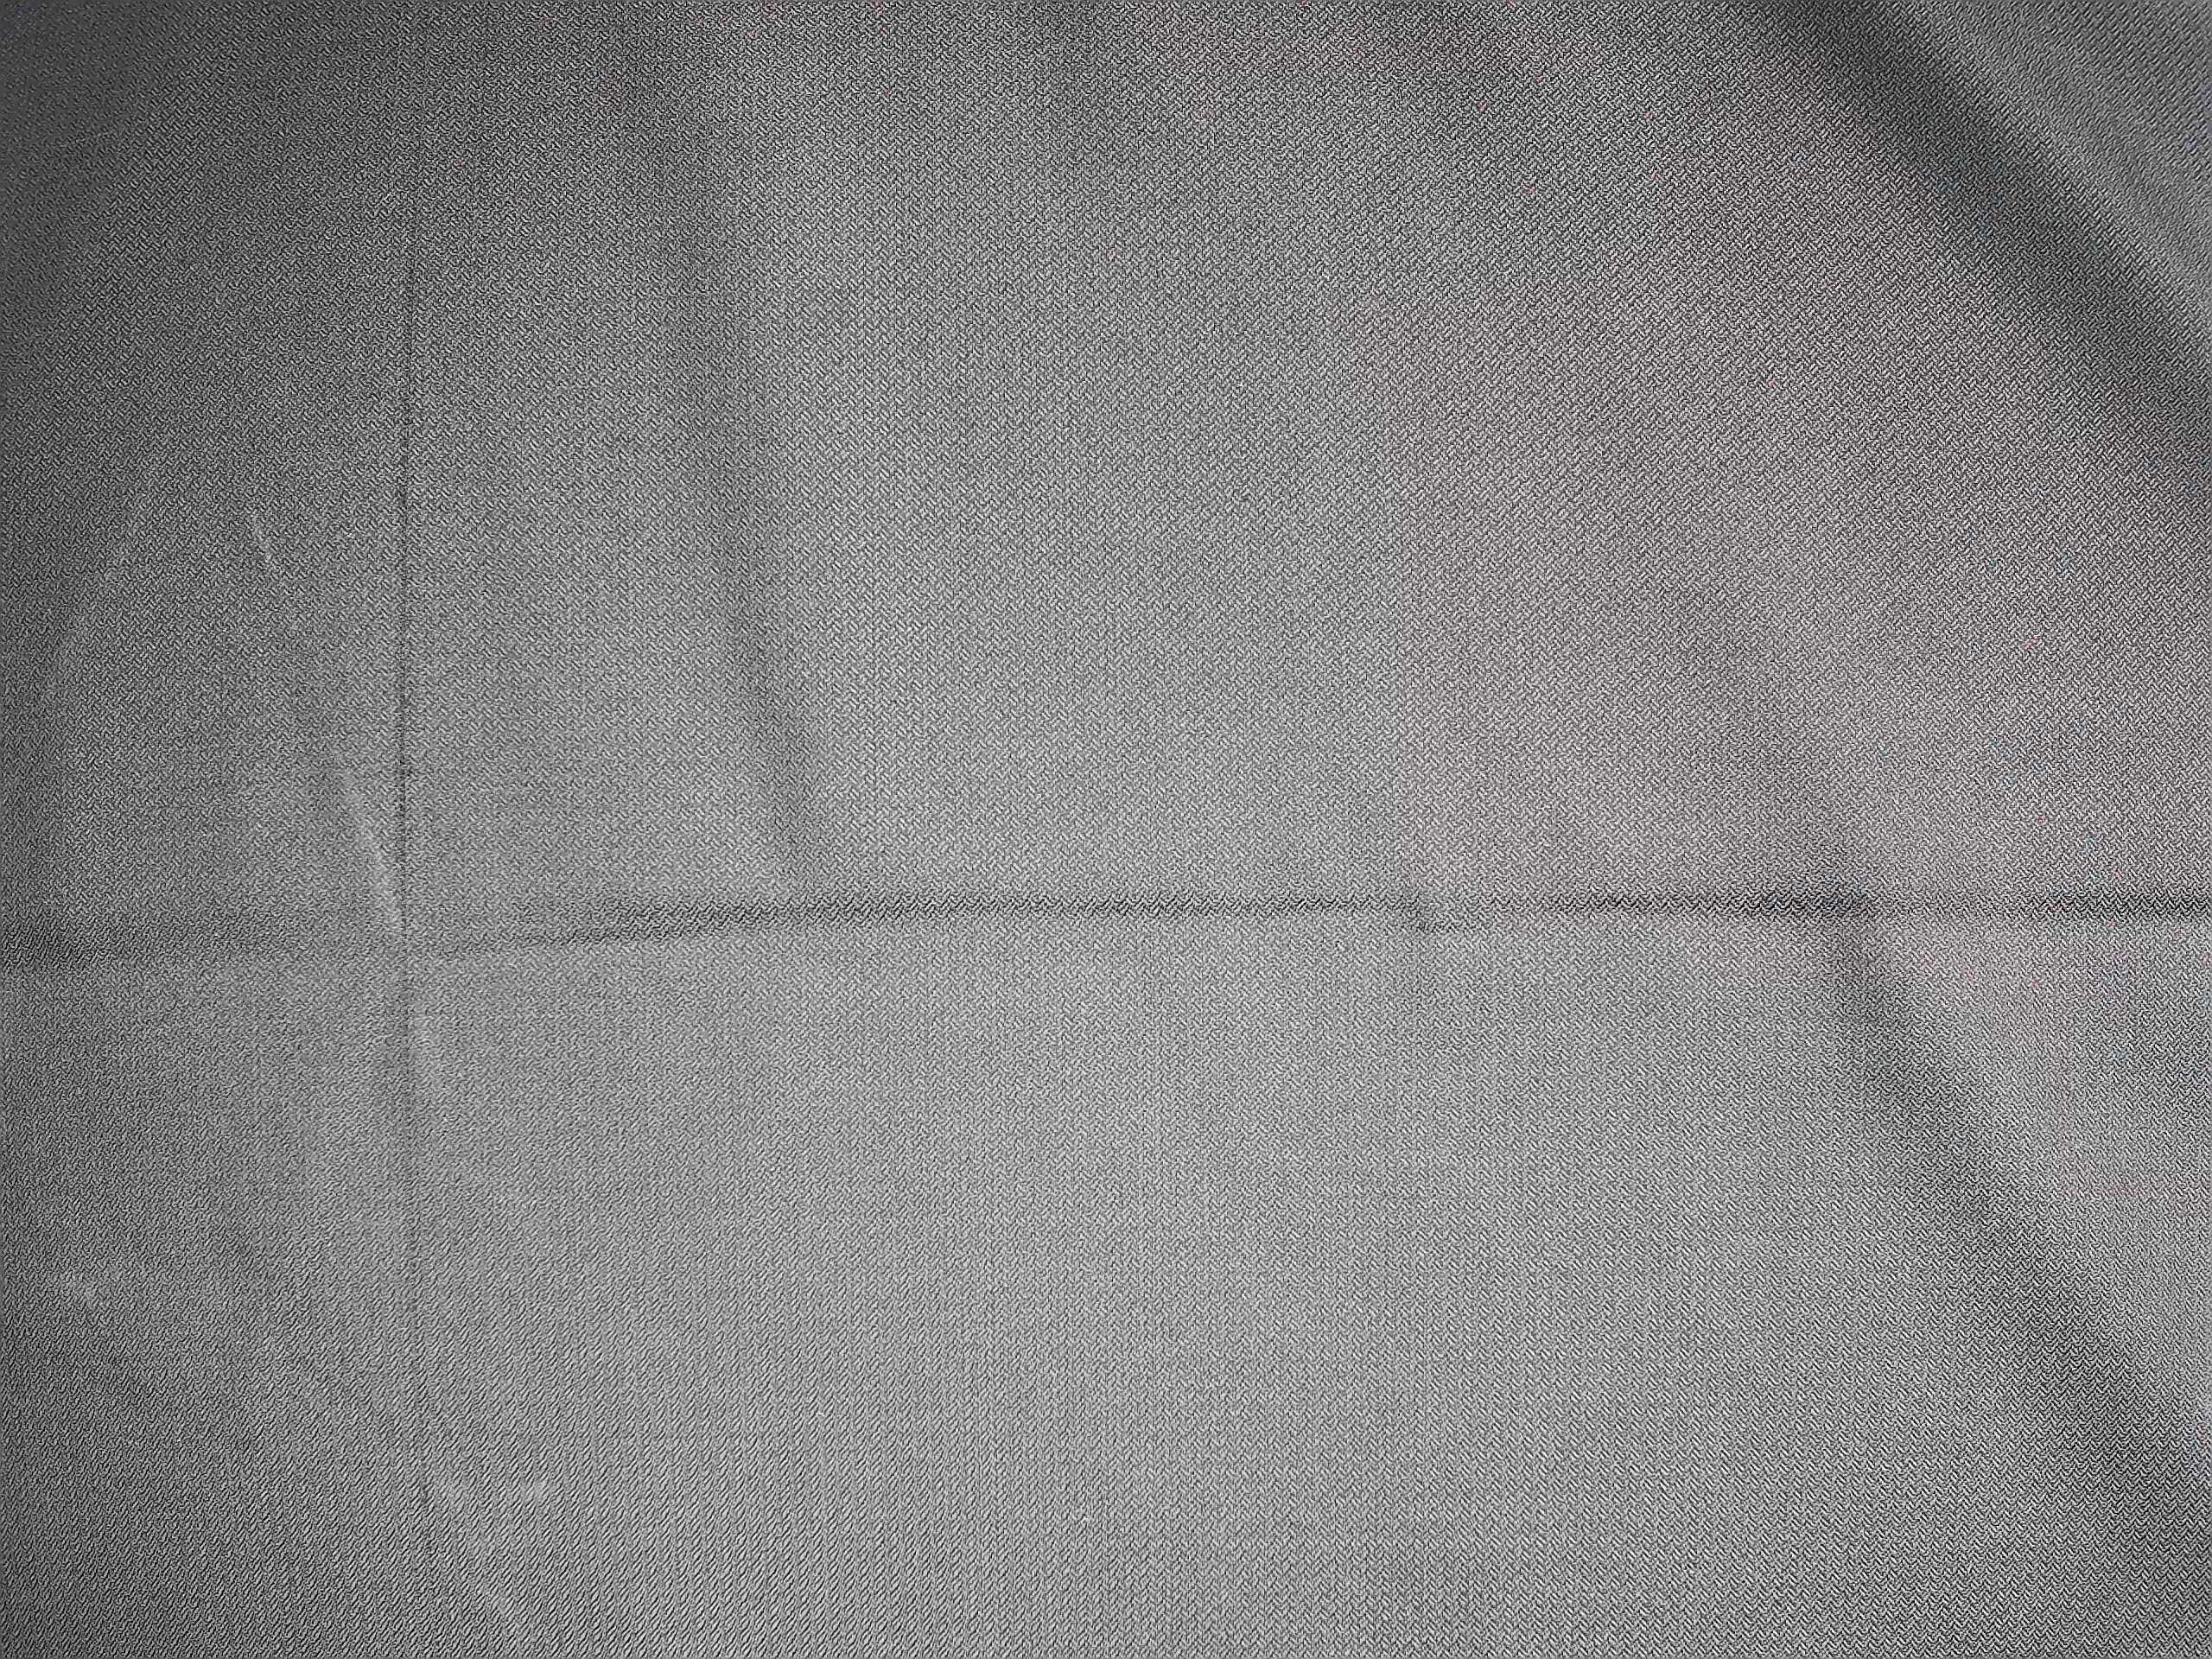hanging-warp: (374, 99, 460, 1581)
